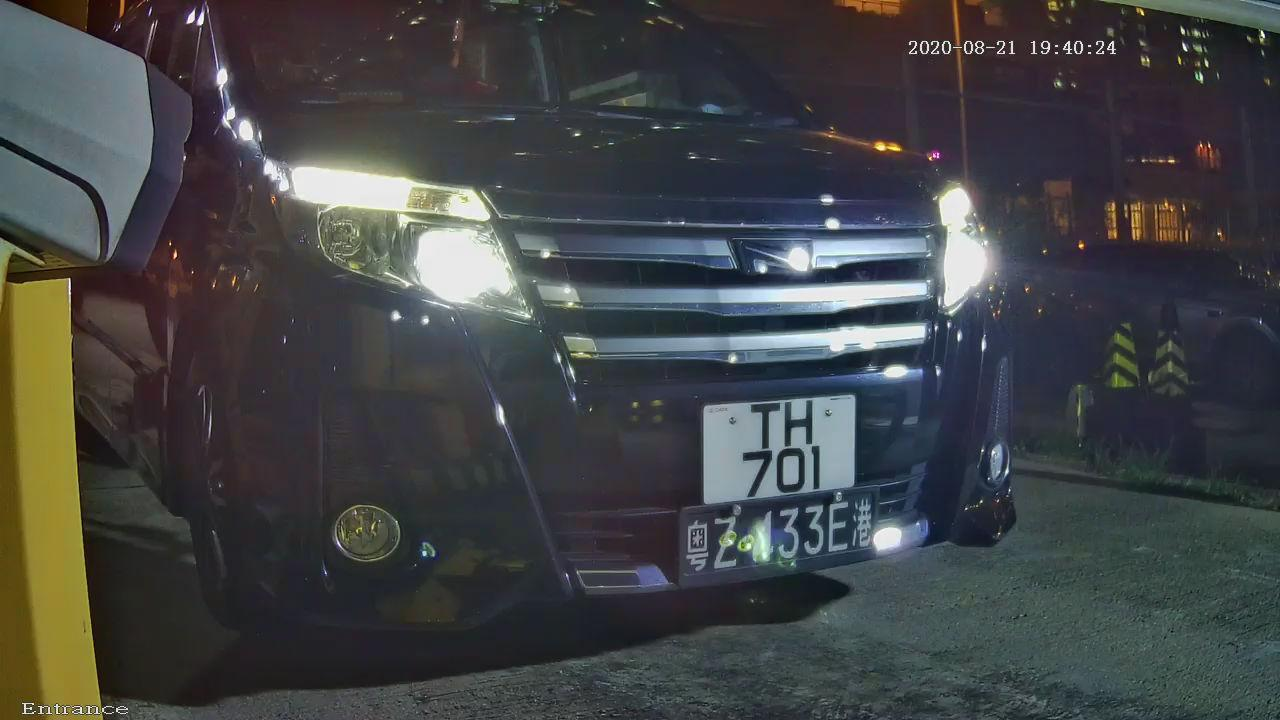Car: (75, 1, 1086, 708)
License Plate: (687, 369, 876, 546)
